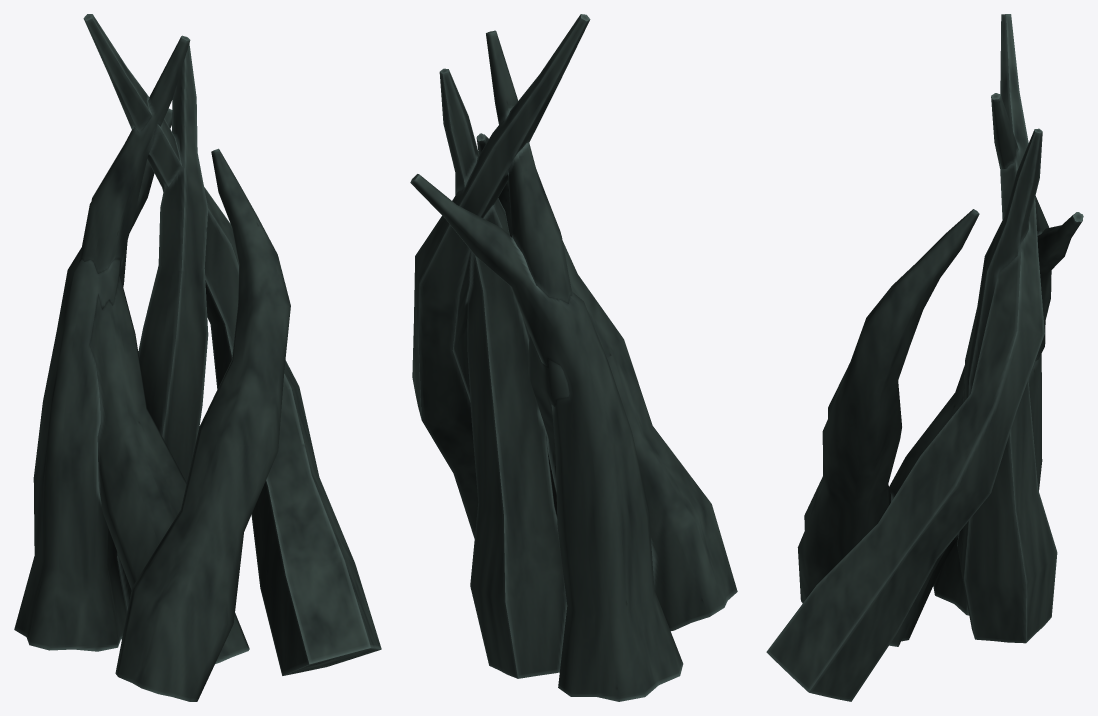
The model's file is underworld-flora-blackwater-root-fingers.glb.
The picture shows the model from 3 angles, left to right: view 1: azimuth 30°, elevation 25°; view 2: azimuth 150°, elevation 25°; view 3: azimuth 270°, elevation 25°; orthographic projection. The views are drawn at different scales.
Parts seen in each view (by area): view 1: roots; view 2: roots; view 3: roots.
Part boxes in pixels (bbox=[...]): roots: bbox=[14, 14, 381, 701]; roots: bbox=[410, 14, 737, 701]; roots: bbox=[766, 14, 1083, 701].
Size of the model in its own units: 0.6268 by 1.43 by 0.6692.
1 material, 1 textured.
